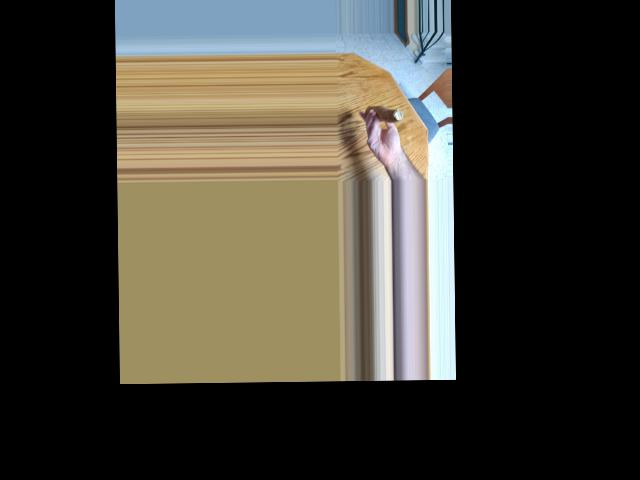sweet_potato: (364, 104, 398, 117)
